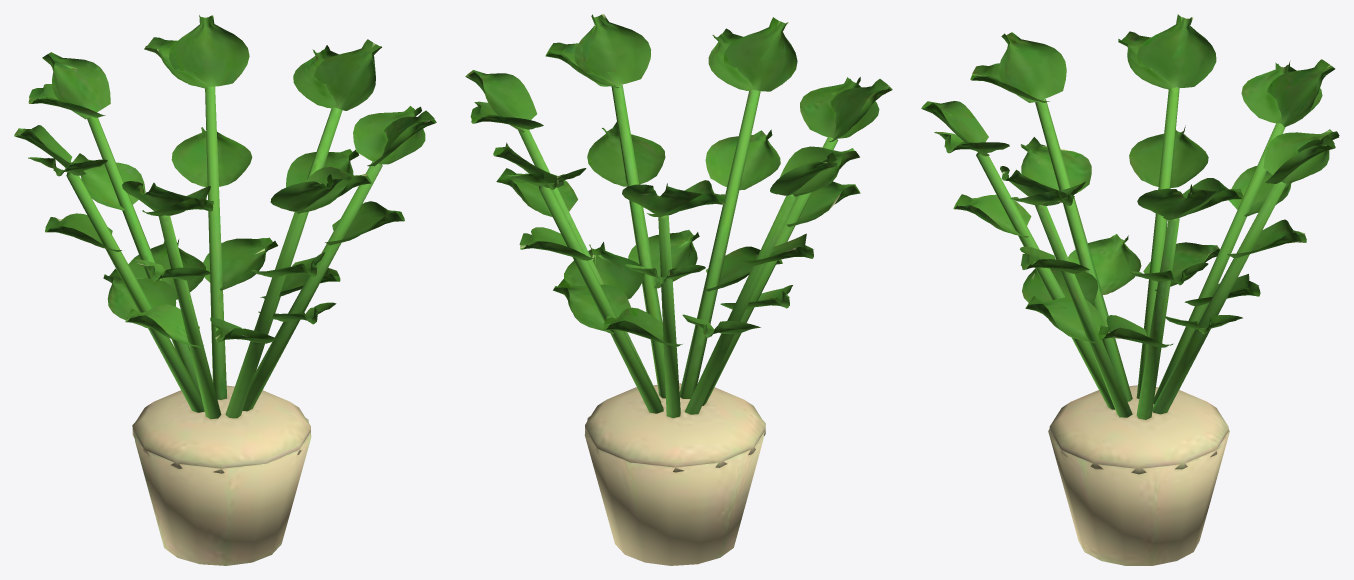
The model's file is crop_parsnip.glb.
3 renders of one model, left to right at view 1: azimuth 30°, elevation 25°; view 2: azimuth 150°, elevation 25°; view 3: azimuth 270°, elevation 25°, orthographic.
Visible parts, largest first — view 1: crop_parsnip, fruit; view 2: crop_parsnip, fruit; view 3: crop_parsnip, fruit.
Part boxes in pixels (x1,y1,x2,y2): crop_parsnip: [14, 15, 436, 419]; fruit: [132, 385, 311, 565]; crop_parsnip: [465, 14, 892, 418]; fruit: [584, 383, 765, 565]; crop_parsnip: [921, 14, 1339, 419]; fruit: [1048, 385, 1229, 565].
Size of the model in its own units: 0.2103 by 0.2411 by 0.2071.
1 material, 1 textured.
